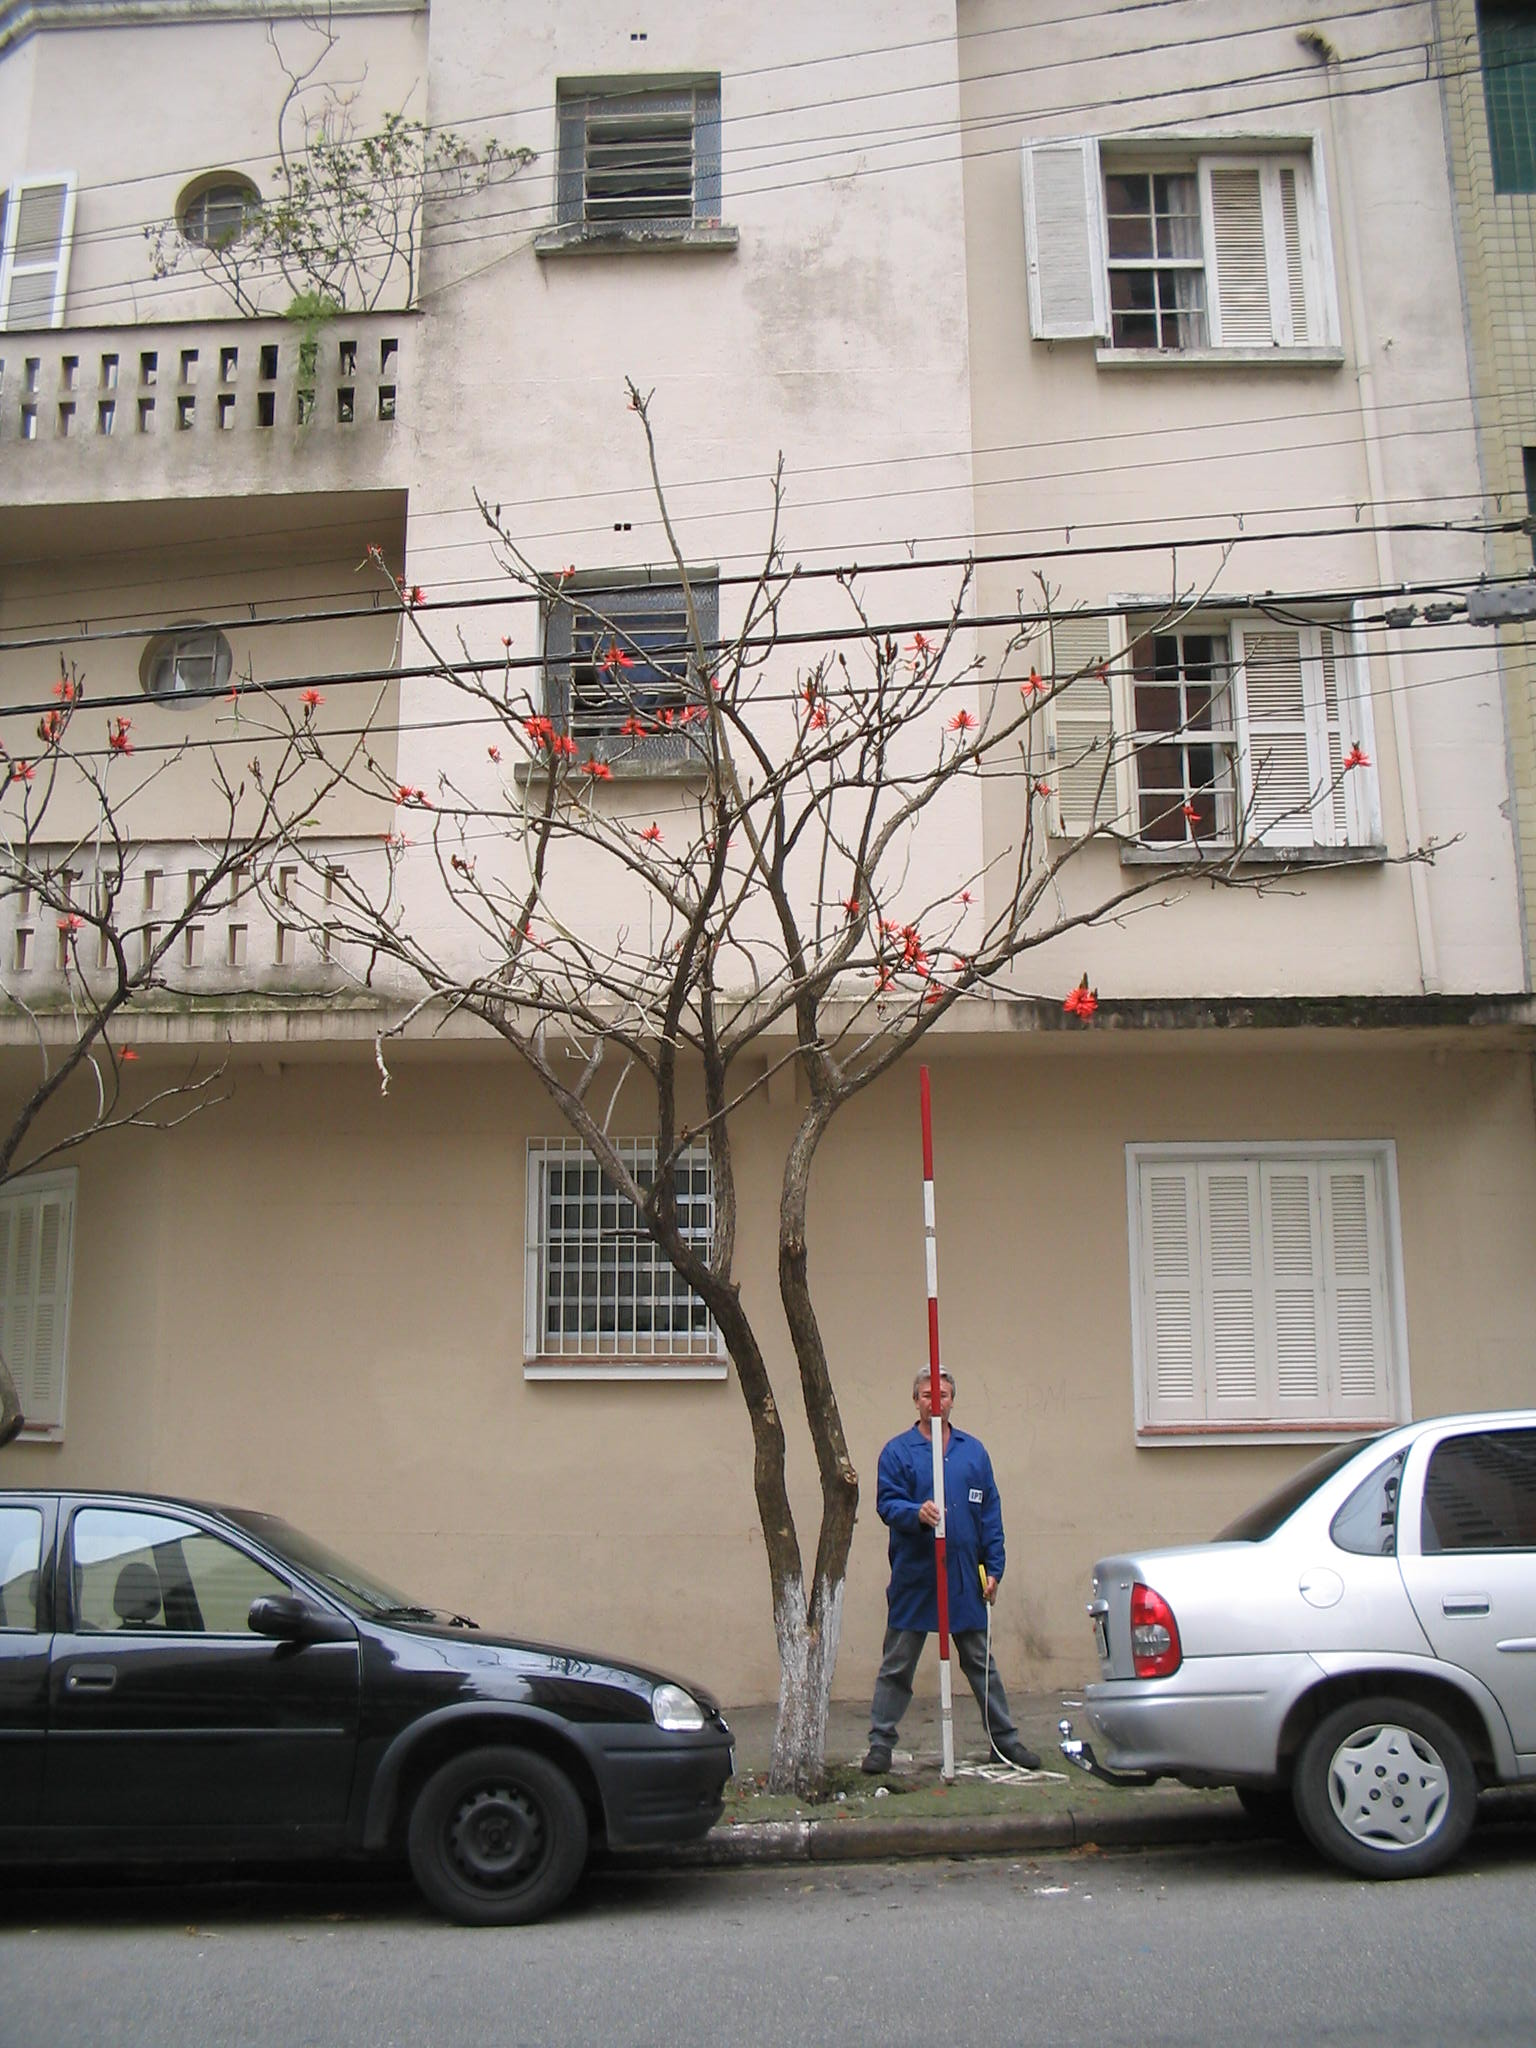stem: (753, 1629, 862, 1800)
stick: (895, 1058, 979, 1784)
tree: (223, 361, 1468, 1811)
